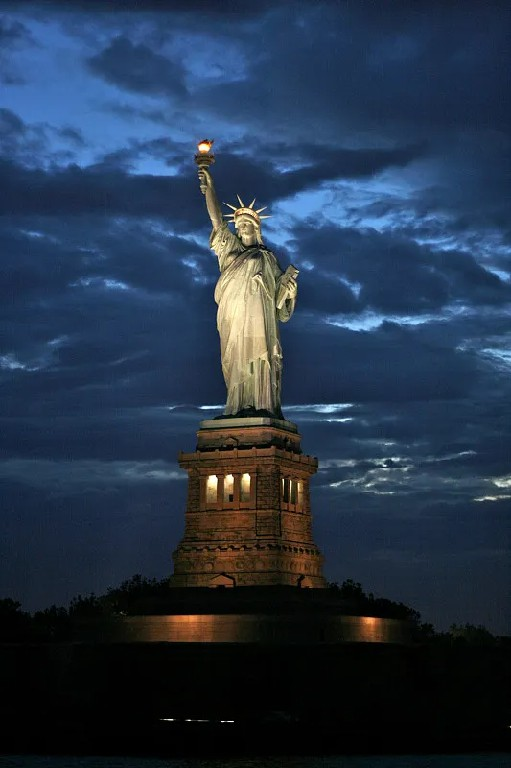SL: (169, 138, 329, 587)
